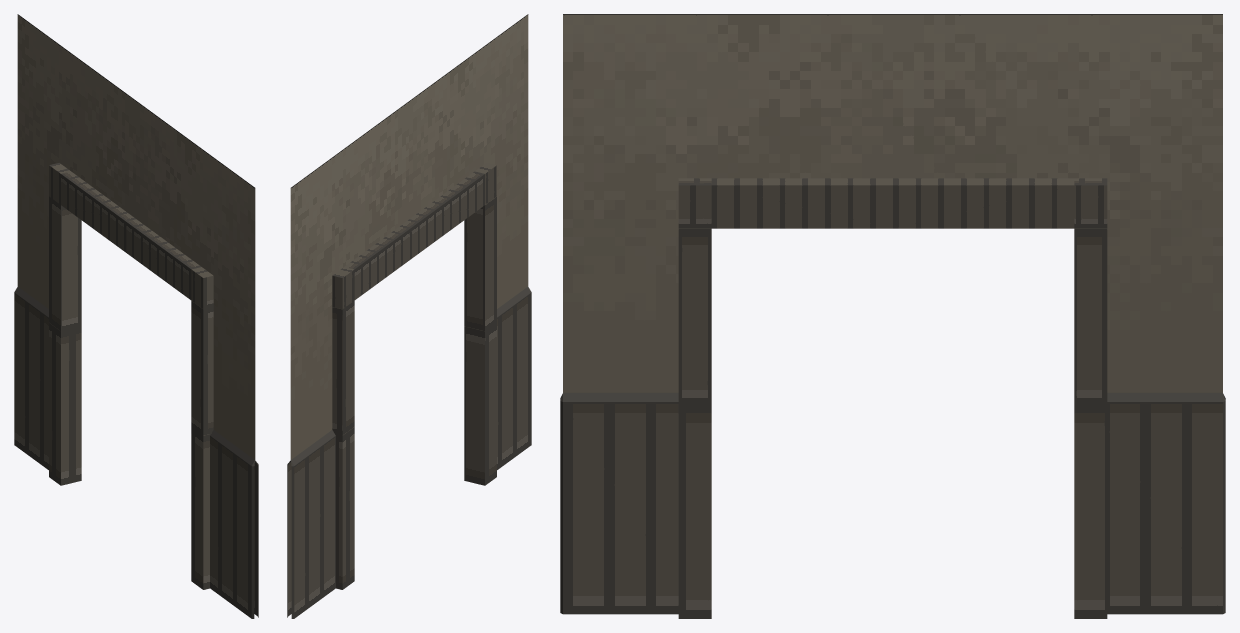
Rendered from Doorway.glb.
The picture shows the model from 3 angles, left to right: view 1: azimuth 30°, elevation 25°; view 2: azimuth 150°, elevation 25°; view 3: azimuth 270°, elevation 25°; orthographic projection. The views are drawn at different scales.
Visible parts, largest first — view 1: Doorway; view 2: Doorway; view 3: Doorway.
Part boxes in pixels (x1,y1,x2,y2): Doorway: [14, 14, 258, 618]; Doorway: [287, 14, 531, 618]; Doorway: [560, 14, 1225, 618].
Bounding box in the file's own units: 0.2 × 4 × 4.03.
Materials: 1 (1 with a texture image).
